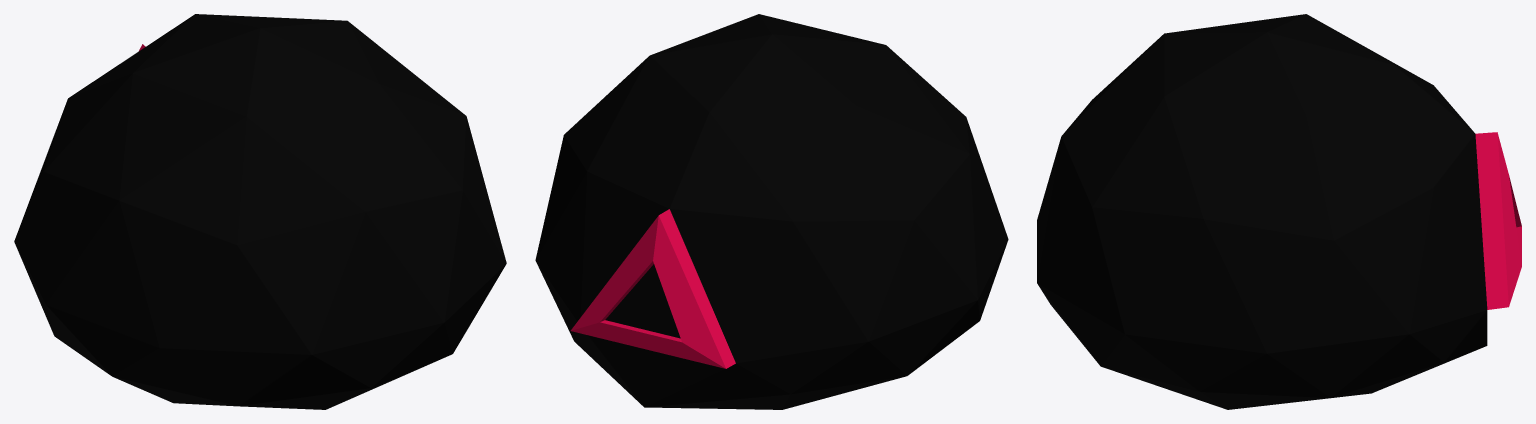
File: spiderV2.glb
The picture shows the model from 3 angles, left to right: view 1: azimuth 30°, elevation 25°; view 2: azimuth 150°, elevation 25°; view 3: azimuth 270°, elevation 25°; orthographic projection. The views are drawn at different scales.
Parts seen in each view (by area): view 1: SpiderV1; view 2: SpiderV1; view 3: SpiderV1.
Boxes of the visible parts, box(x1,y1,x2,y2) form: SpiderV1: box(14, 14, 506, 409); SpiderV1: box(535, 14, 1008, 409); SpiderV1: box(1037, 14, 1521, 409).
Size of the model in its own units: 0.504 by 0.3981 by 0.505.
